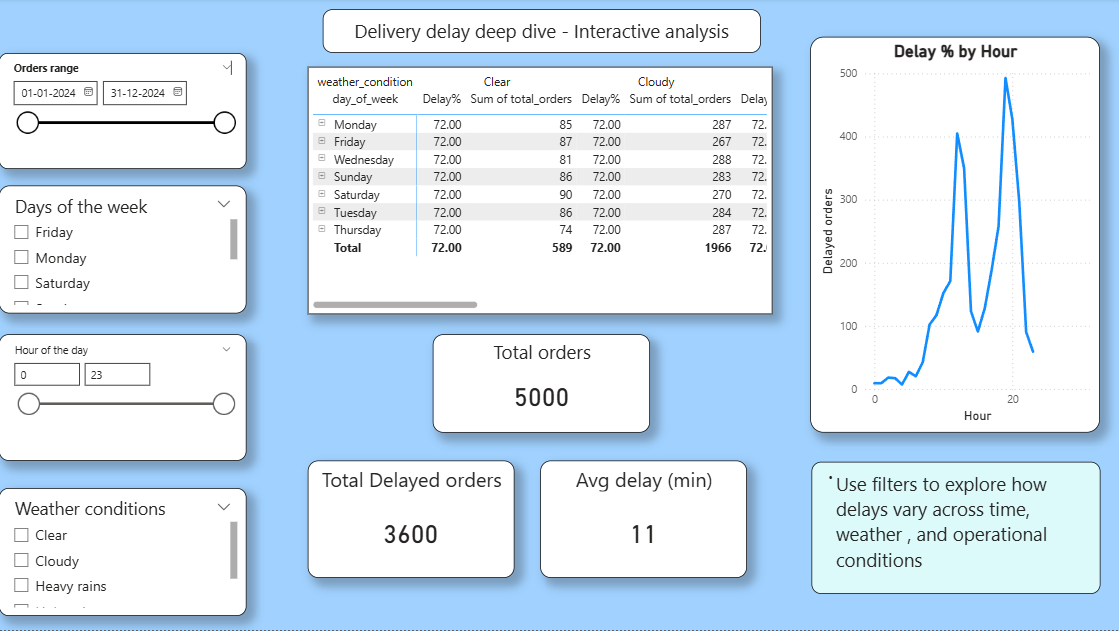

The dashboard page shown, as its layout file describes it:
{"tool":"powerbi","page":{"name":"Deep dive and filters","canvas":[1280,720],"ordinal":3},"visuals":[{"type":"slicer","fields":{"Values":["public v_deep_dive_analysis.order_date"]},"box":[0,62.3,281.2,131.7],"z":0},{"type":"slicer","fields":{"Values":["public v_deep_dive_analysis.day_of_week"]},"box":[0,213.6,281.2,145.9],"z":1000},{"type":"slicer","fields":{"Values":["public v_deep_dive_analysis.hour_of_day"]},"box":[0,382.7,281.2,144.2],"z":2000},{"type":"slicer","fields":{"Values":["public v_deep_dive_analysis.weather_condition"]},"box":[0,557.1,281.2,145.9],"z":3000},{"type":"pivotTable","fields":{"Rows":["public v_deep_dive_analysis.day_of_week","public v_deep_dive_analysis.hour_of_day"],"Columns":["public v_deep_dive_analysis.weather_condition"],"Values":["public v_hourly_patterns.Delay%","Sum(public v_deep_dive_analysis.total_orders)"]},"box":[350.6,78.3,528.6,281.2],"z":4000},{"type":"lineChart","title":"Delay % by Hour","fields":{"Category":["public v_deep_dive_analysis.hour_of_day"],"Y":["Sum(public v_deep_dive_analysis.delayed_orders)"]},"box":[923.7,44.5,329.3,450.3],"z":5000},{"type":"card","title":"Total orders","fields":{"Values":["Sum(public v_deep_dive_analysis.total_orders)"]},"box":[493,382.7,247.4,112.1],"z":6000},{"type":"card","title":"Avg delay (min)","fields":{"Values":["public v_hourly_patterns.Avg Delay(min)"]},"box":[615.8,526.8,234.9,133.5],"z":7000},{"type":"textbox","box":[368.4,12.5,498.3,49.8],"z":7001},{"type":"card","title":"Total Delayed orders","fields":{"Values":["public v_hourly_patterns.Delayed Orders"]},"box":[350.6,526.8,234.9,133.5],"z":7002},{"type":"textbox","box":[924,527,329,150],"z":7003}]}

Visuals, with their boxes in screenshot pixels (x1, y1, x2, y2), scaled from the page's 1280x720 canvas onto the 1119x631 screenshot:
slicer - public v_deep_dive_analysis.order_date: <region>0, 55, 246, 170</region>
slicer - public v_deep_dive_analysis.day_of_week: <region>0, 187, 246, 315</region>
slicer - public v_deep_dive_analysis.hour_of_day: <region>0, 335, 246, 462</region>
slicer - public v_deep_dive_analysis.weather_condition: <region>0, 488, 246, 616</region>
pivotTable - public v_deep_dive_analysis.day_of_week x public v_deep_dive_analysis.hour_of_day: <region>307, 69, 769, 315</region>
"Delay % by Hour" lineChart: <region>808, 39, 1095, 434</region>
"Total orders" card: <region>431, 335, 647, 434</region>
"Avg delay (min)" card: <region>538, 462, 744, 579</region>
textbox: <region>322, 11, 758, 55</region>
"Total Delayed orders" card: <region>307, 462, 512, 579</region>
textbox: <region>808, 462, 1095, 593</region>
